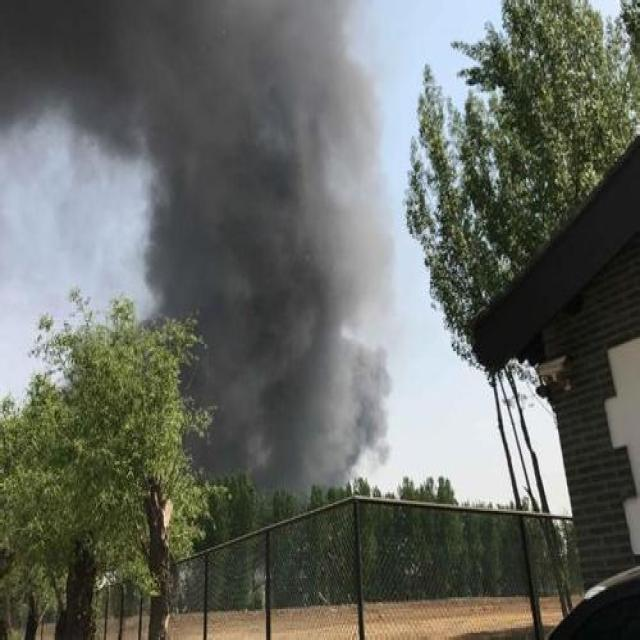smoke: (0, 0, 393, 485)
